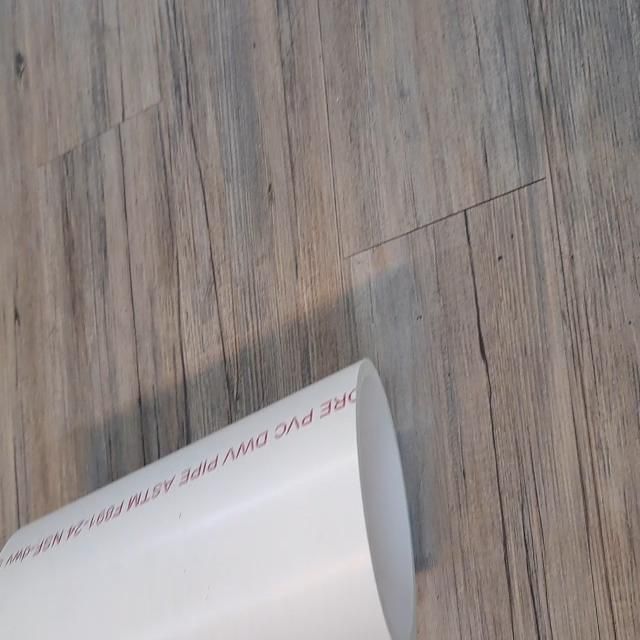CORAL: (0, 326, 425, 640)
